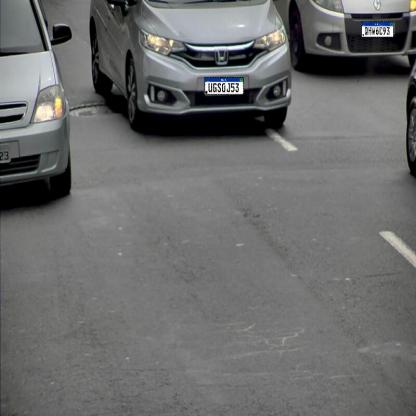PlacaM: (204, 77, 244, 95), (362, 22, 394, 38)
